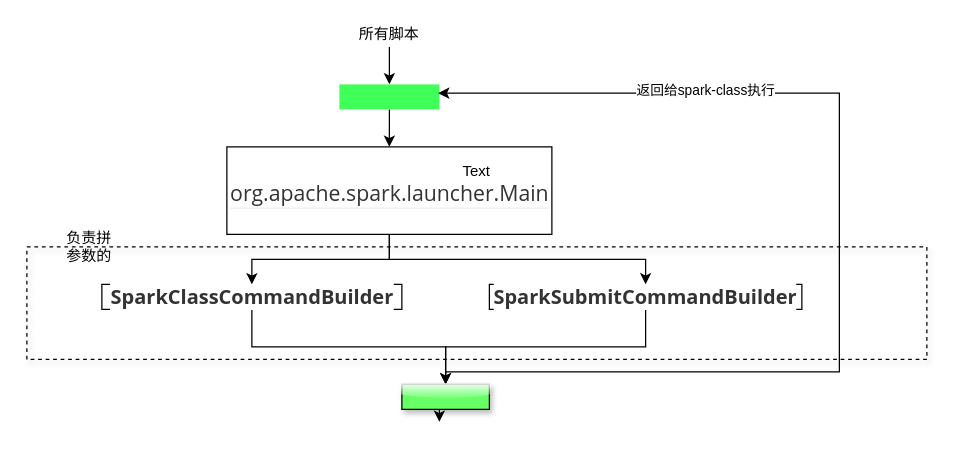
The diagram is 956 pixels wide and 454 high, and some of its shapes have lost their labels. Here are the shapes that lost their labels. From the top down, the centre of each, then its label:
point 389,96: spark-class
point 446,398: commands
